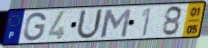1: (140, 6, 153, 38)
4: (47, 9, 68, 42)
8: (160, 5, 184, 38)
G: (22, 12, 48, 42)
M: (99, 7, 133, 39)
U: (74, 8, 105, 41)
